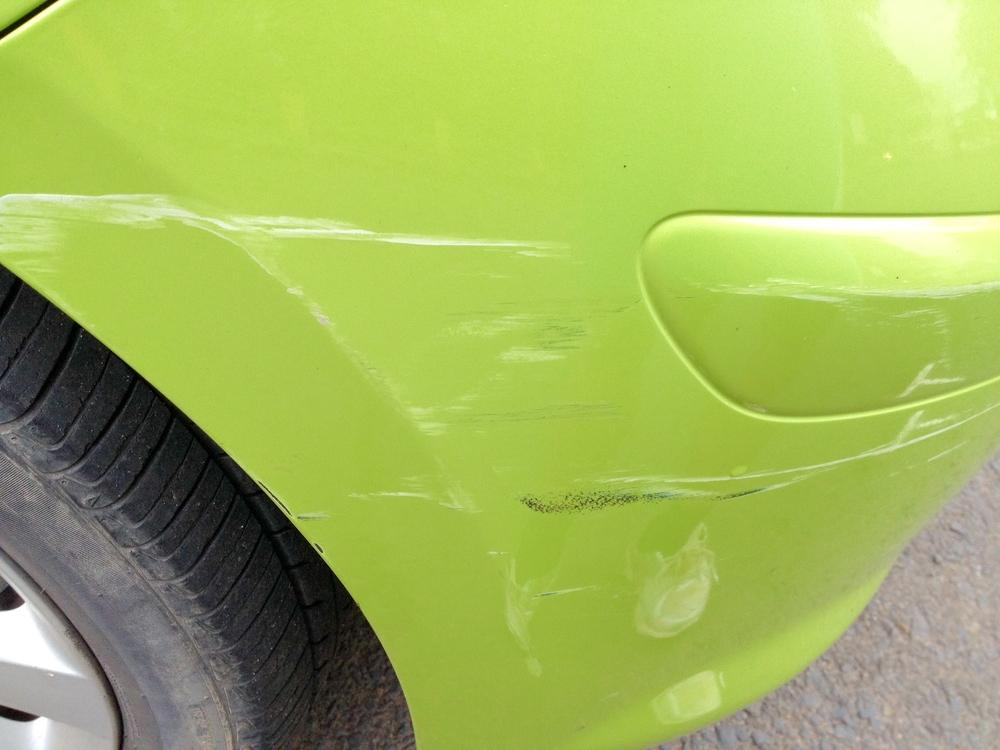scratch: (0, 187, 1000, 748)
